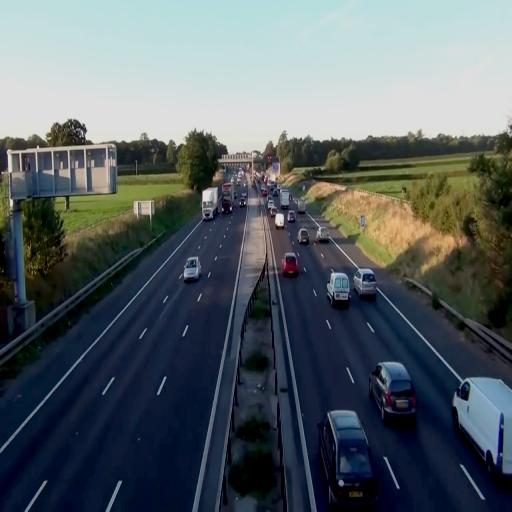vehicle: (452, 375, 512, 482), (318, 408, 377, 506), (368, 361, 417, 423), (326, 271, 350, 308), (353, 267, 378, 300), (201, 188, 218, 220), (220, 180, 234, 213), (282, 250, 298, 278), (184, 256, 200, 282), (298, 224, 312, 245), (298, 226, 310, 245), (274, 212, 285, 230)
